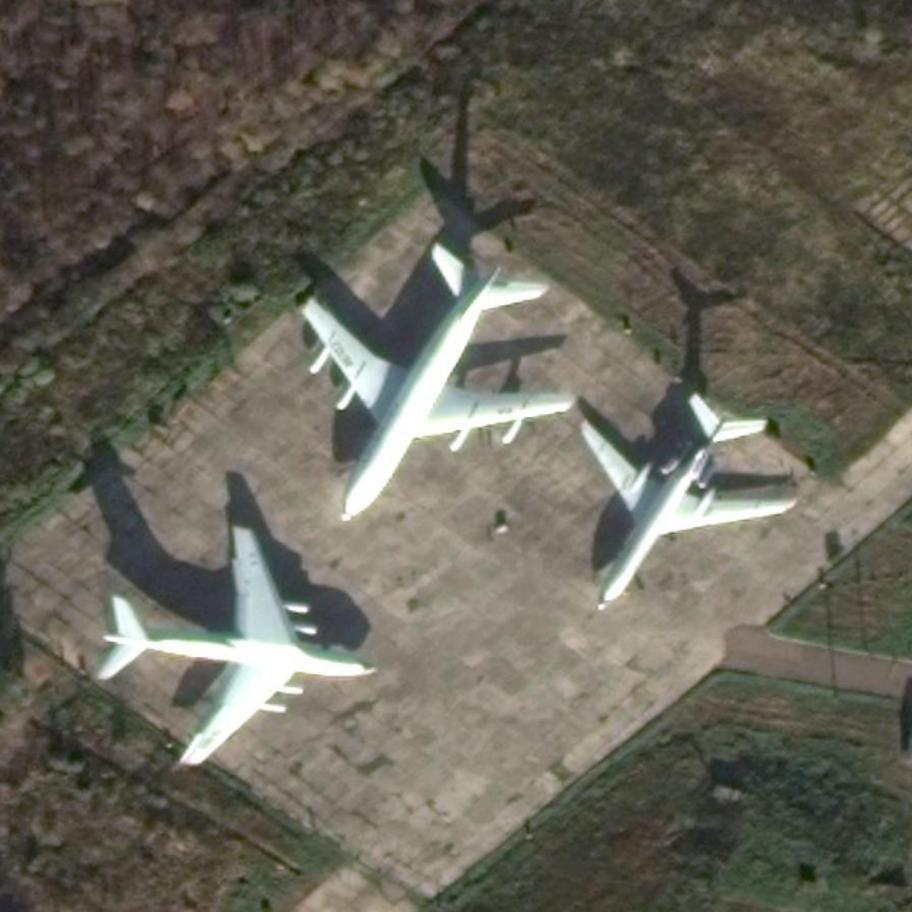plane: (208, 172, 634, 608), (488, 317, 837, 682), (63, 496, 426, 809)
